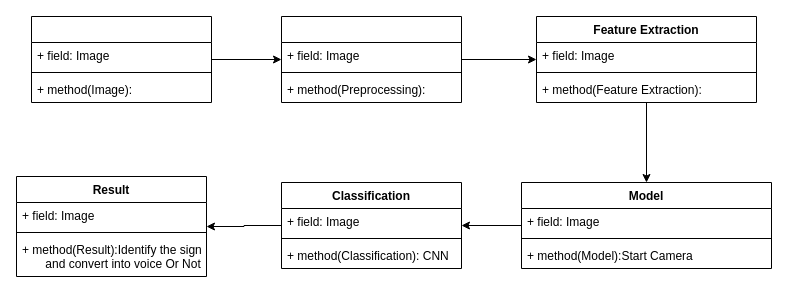
Image size: 788x293. Some labels were removed from this diagram. The shapes that lost their labels are listed below. From the top down, each one's box as (x1, y1, x2, y2) in pixels, then its label:
(30, 16, 212, 102): User Image
(280, 16, 462, 102): Preprosessing
